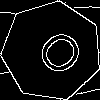O: (26, 26, 88, 86)
